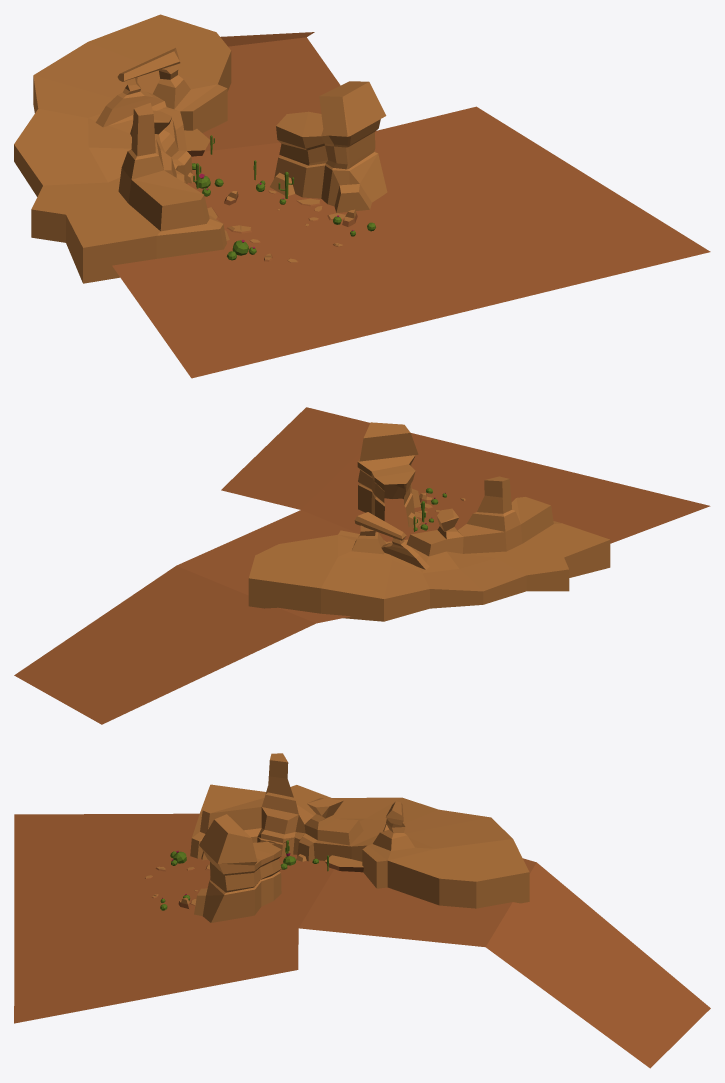
The model's file is PT_Sce_04_a.FBX.
The picture shows the model from 3 angles, top to bottom: view 1: azimuth 30°, elevation 25°; view 2: azimuth 150°, elevation 25°; view 3: azimuth 270°, elevation 25°; orthographic projection. The views are drawn at different scales.
Parts seen in each view (by area): view 1: PT_Sce_04_a; view 2: PT_Sce_04_a; view 3: PT_Sce_04_a.
Boxes of the visible parts, x1=… form: PT_Sce_04_a: x1=14, y1=14, x2=710, y2=378; PT_Sce_04_a: x1=14, y1=407, x2=710, y2=724; PT_Sce_04_a: x1=14, y1=753, x2=710, y2=1068.
Bounding box in the file's own units: 40706 × 13981 × 57317.
